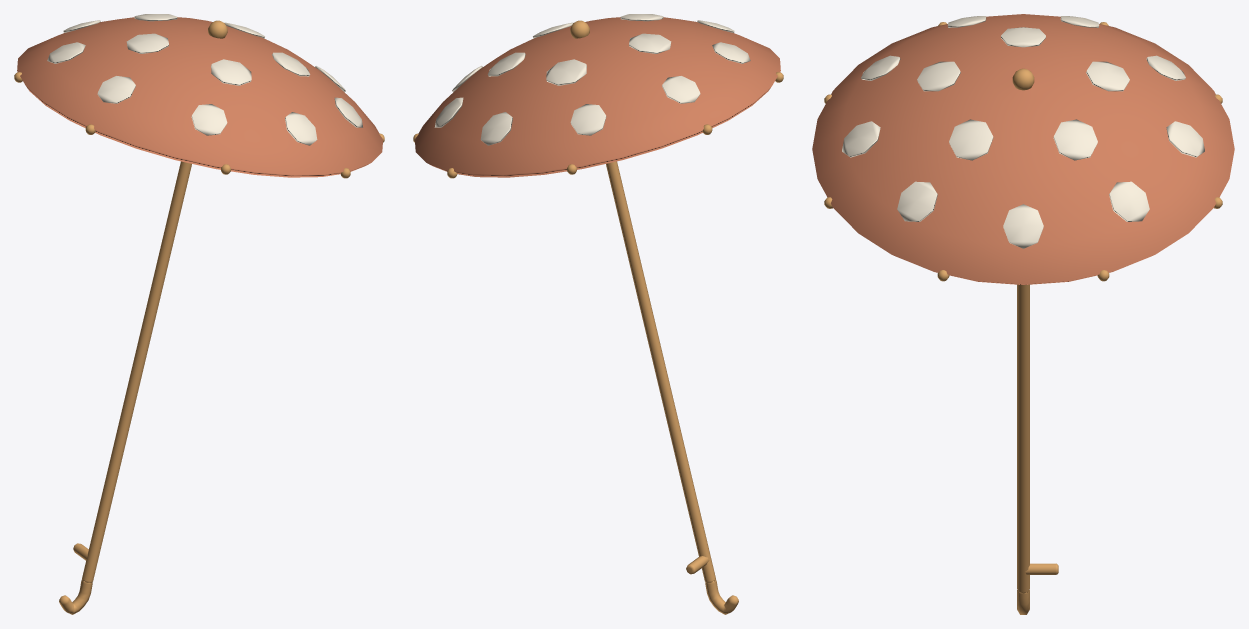
File: mush_umbrella.glb
3 views of the same model, side by side, from view 1: azimuth 30°, elevation 25°; view 2: azimuth 150°, elevation 25°; view 3: azimuth 270°, elevation 25° (orthographic). The views are drawn at different scales.
Parts seen in each view (by area): view 1: mush_umbrella_ArmR; view 2: mush_umbrella_ArmR; view 3: mush_umbrella_ArmR.
Boxes of the visible parts, x1,y1,x2,y2 form: mush_umbrella_ArmR: (14,14,384,614); mush_umbrella_ArmR: (413,14,783,614); mush_umbrella_ArmR: (812,14,1234,614).
Size of the model in its own units: 0.8703 by 1.47 by 0.9.
